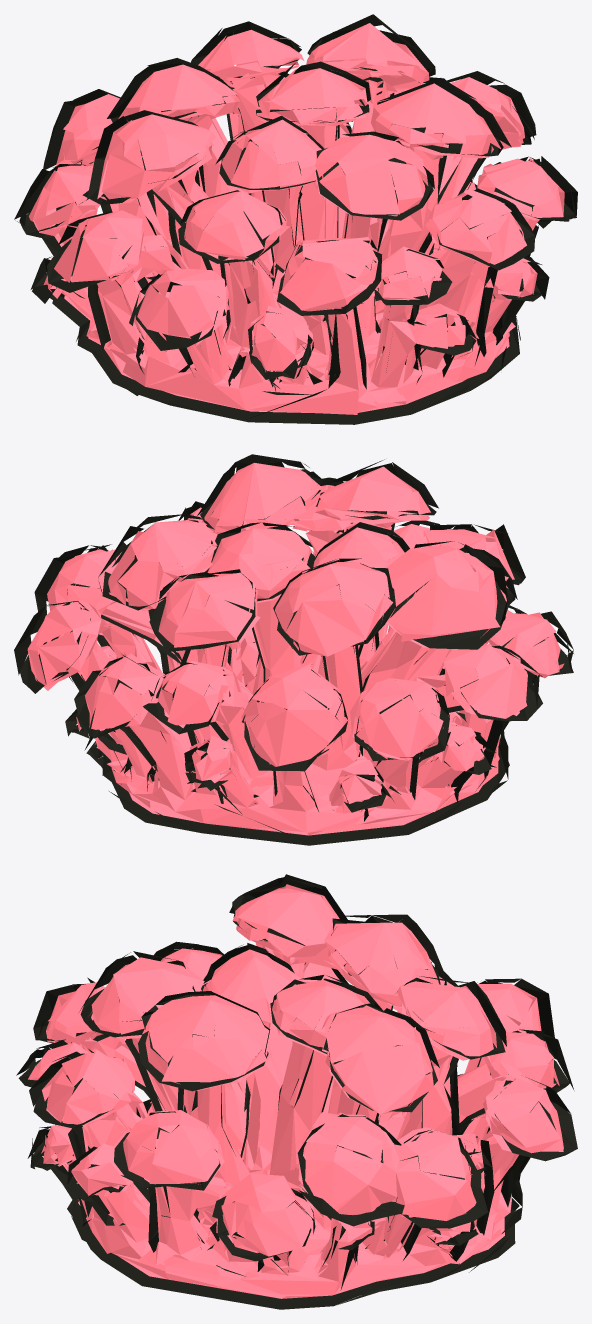
The model's file is df_v2_mushroom_blocker_d_a.glb.
The picture shows the model from 3 angles, top to bottom: view 1: azimuth 30°, elevation 25°; view 2: azimuth 150°, elevation 25°; view 3: azimuth 270°, elevation 25°; orthographic projection. The views are drawn at different scales.
Parts seen in each view (by area): view 1: mushroom_blocker_d_mesh_01, mushroom_blocker_d_mesh_01_ink_outline; view 2: mushroom_blocker_d_mesh_01, mushroom_blocker_d_mesh_01_ink_outline; view 3: mushroom_blocker_d_mesh_01, mushroom_blocker_d_mesh_01_ink_outline.
Boxes of the visible parts, <box> form: mushroom_blocker_d_mesh_01: <box>29,23,564,414</box>; mushroom_blocker_d_mesh_01_ink_outline: <box>14,14,577,424</box>; mushroom_blocker_d_mesh_01: <box>27,462,564,835</box>; mushroom_blocker_d_mesh_01_ink_outline: <box>14,454,573,845</box>; mushroom_blocker_d_mesh_01: <box>28,884,563,1298</box>; mushroom_blocker_d_mesh_01_ink_outline: <box>16,874,577,1309</box>.
Size of the model in its own units: 0.9513 by 0.484 by 0.9238.
